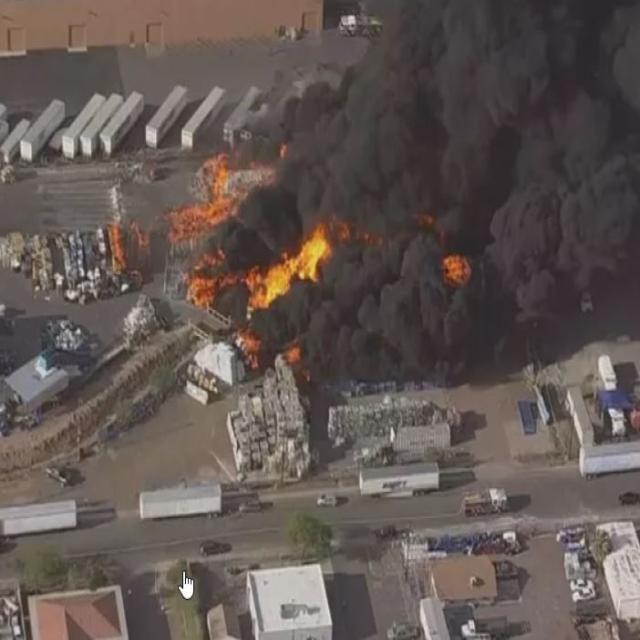Fire: (179, 152, 327, 328)
Smoke: (272, 10, 634, 334)
